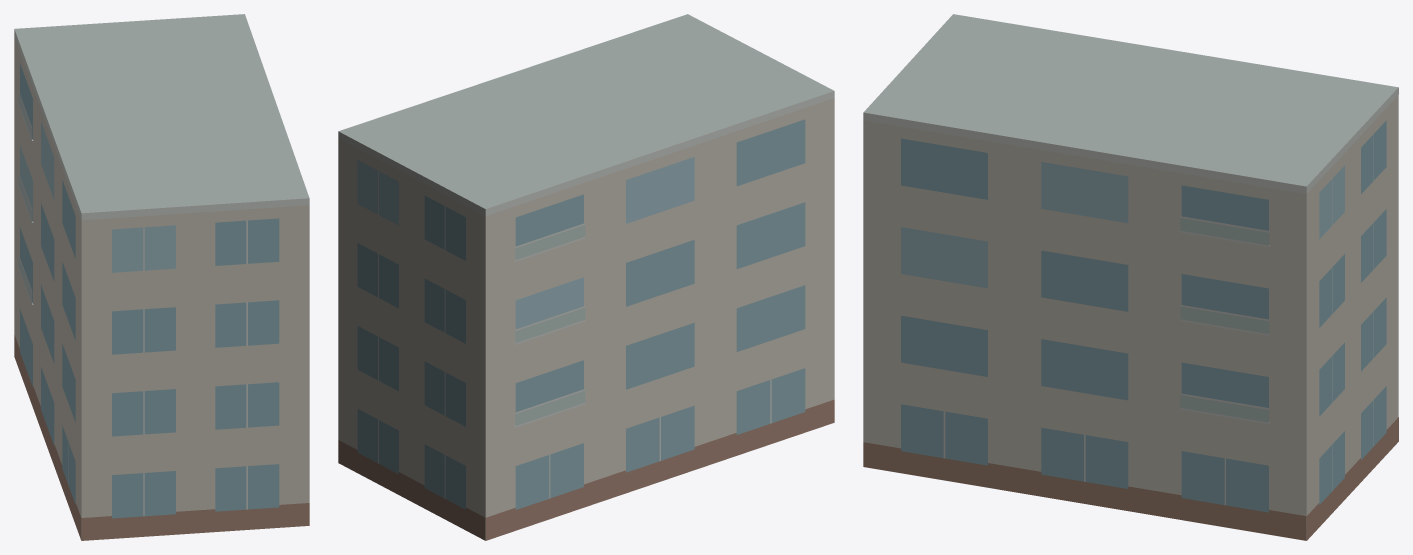
The model's file is survey-upis-32528420.glb.
The picture shows the model from 3 angles, left to right: view 1: azimuth 30°, elevation 25°; view 2: azimuth 150°, elevation 25°; view 3: azimuth 270°, elevation 25°; orthographic projection. The views are drawn at different scales.
Parts seen in each view (by area): view 1: survey-upis-32528420.tmp; view 2: survey-upis-32528420.tmp; view 3: survey-upis-32528420.tmp.
Part boxes in pixels (x1=…): survey-upis-32528420.tmp: x1=14, y1=14, x2=309, y2=540; survey-upis-32528420.tmp: x1=338, y1=14, x2=834, y2=540; survey-upis-32528420.tmp: x1=863, y1=14, x2=1398, y2=540.
Size of the model in its own units: 12.07 by 11.55 by 15.83.
